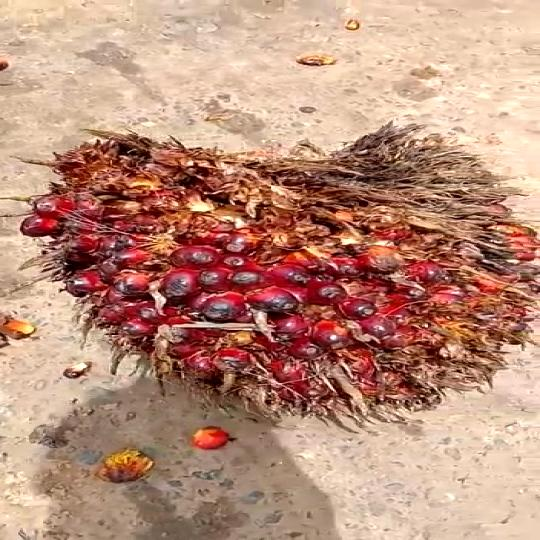masak: (38, 124, 540, 429)
